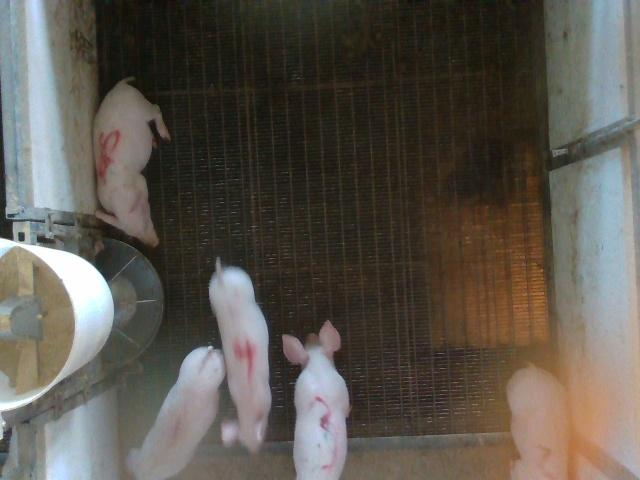pig-1: (126, 346, 225, 479)
pig-2: (506, 364, 568, 478)
pig-3: (282, 321, 350, 478)
pig-4: (209, 259, 271, 453)
pig-5: (94, 78, 171, 246)
